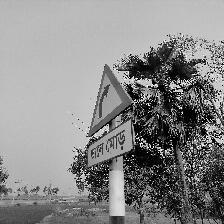Right-turn: (86, 63, 137, 169)
